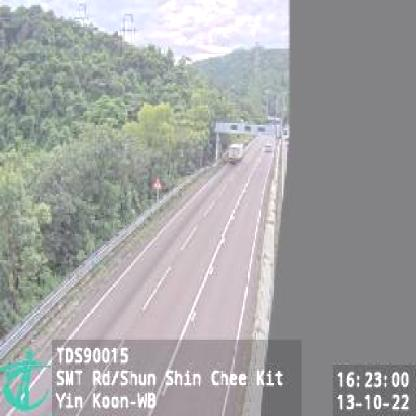Car: (263, 142, 274, 154)
Truck: (228, 141, 246, 164)
